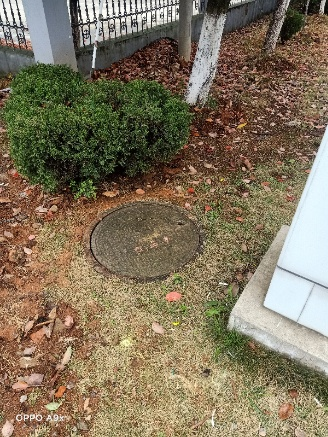good: (83, 200, 204, 283)
